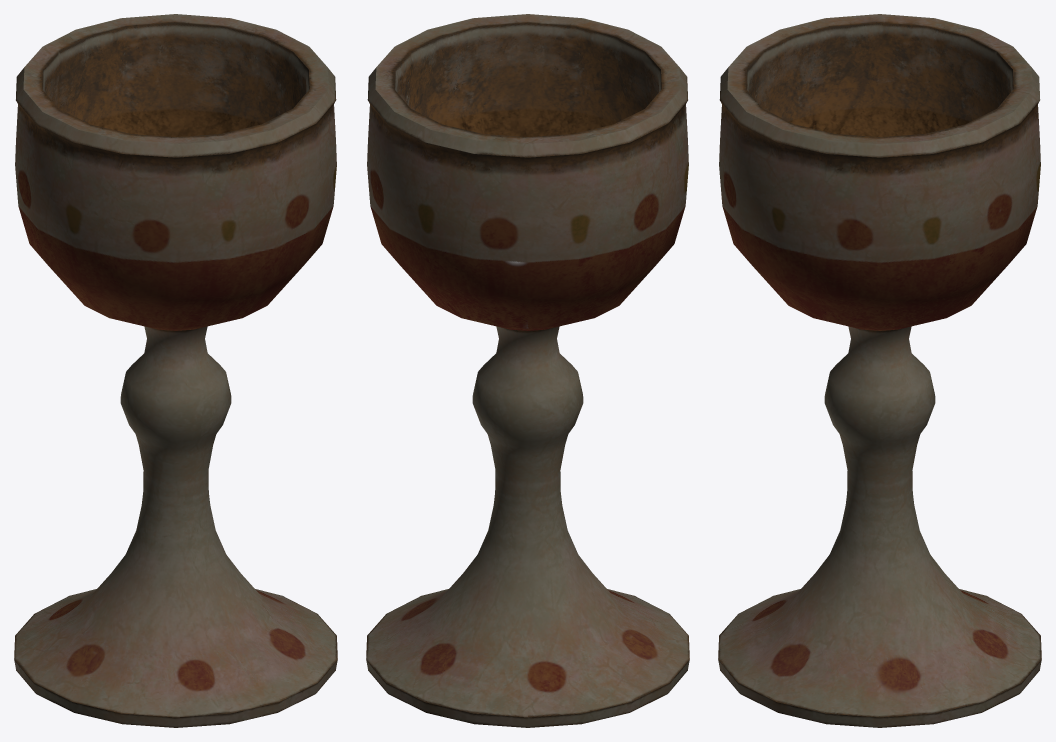
File: 3DArt_Props_Chalice_Model_Amanda_V1.fbx
3 renders of one model, left to right at view 1: azimuth 30°, elevation 25°; view 2: azimuth 150°, elevation 25°; view 3: azimuth 270°, elevation 25°, orthographic.
Visible parts, largest first — view 1: Line001; view 2: Line001; view 3: Line001.
Boxes of the visible parts, bbox=[...] form: Line001: bbox=[14, 14, 337, 727]; Line001: bbox=[366, 14, 689, 727]; Line001: bbox=[718, 14, 1041, 727].
Bounding box in the file's own units: 67.88 × 133 × 67.15.
1 material, 1 textured.
